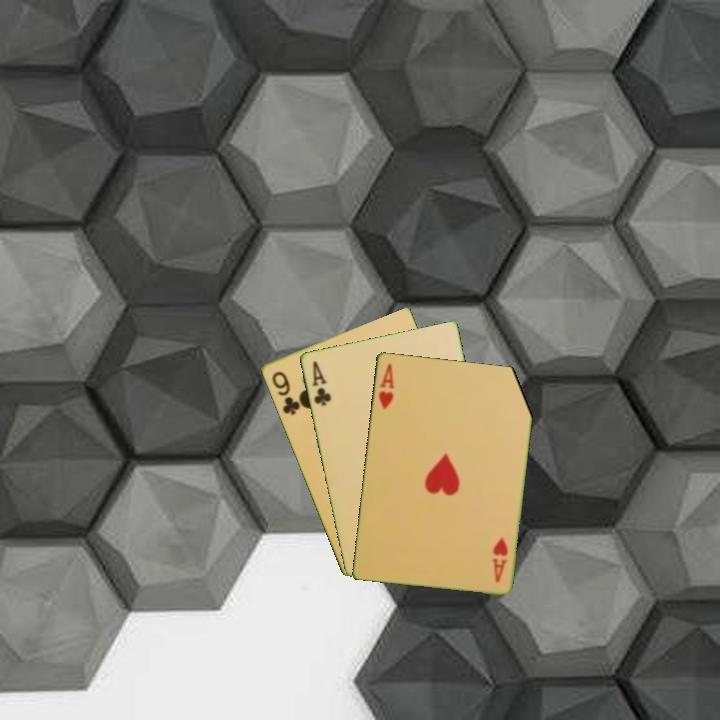9c: (268, 368, 303, 418)
Ac: (308, 357, 334, 409)
Ah: (375, 360, 397, 412), (489, 533, 511, 585)
